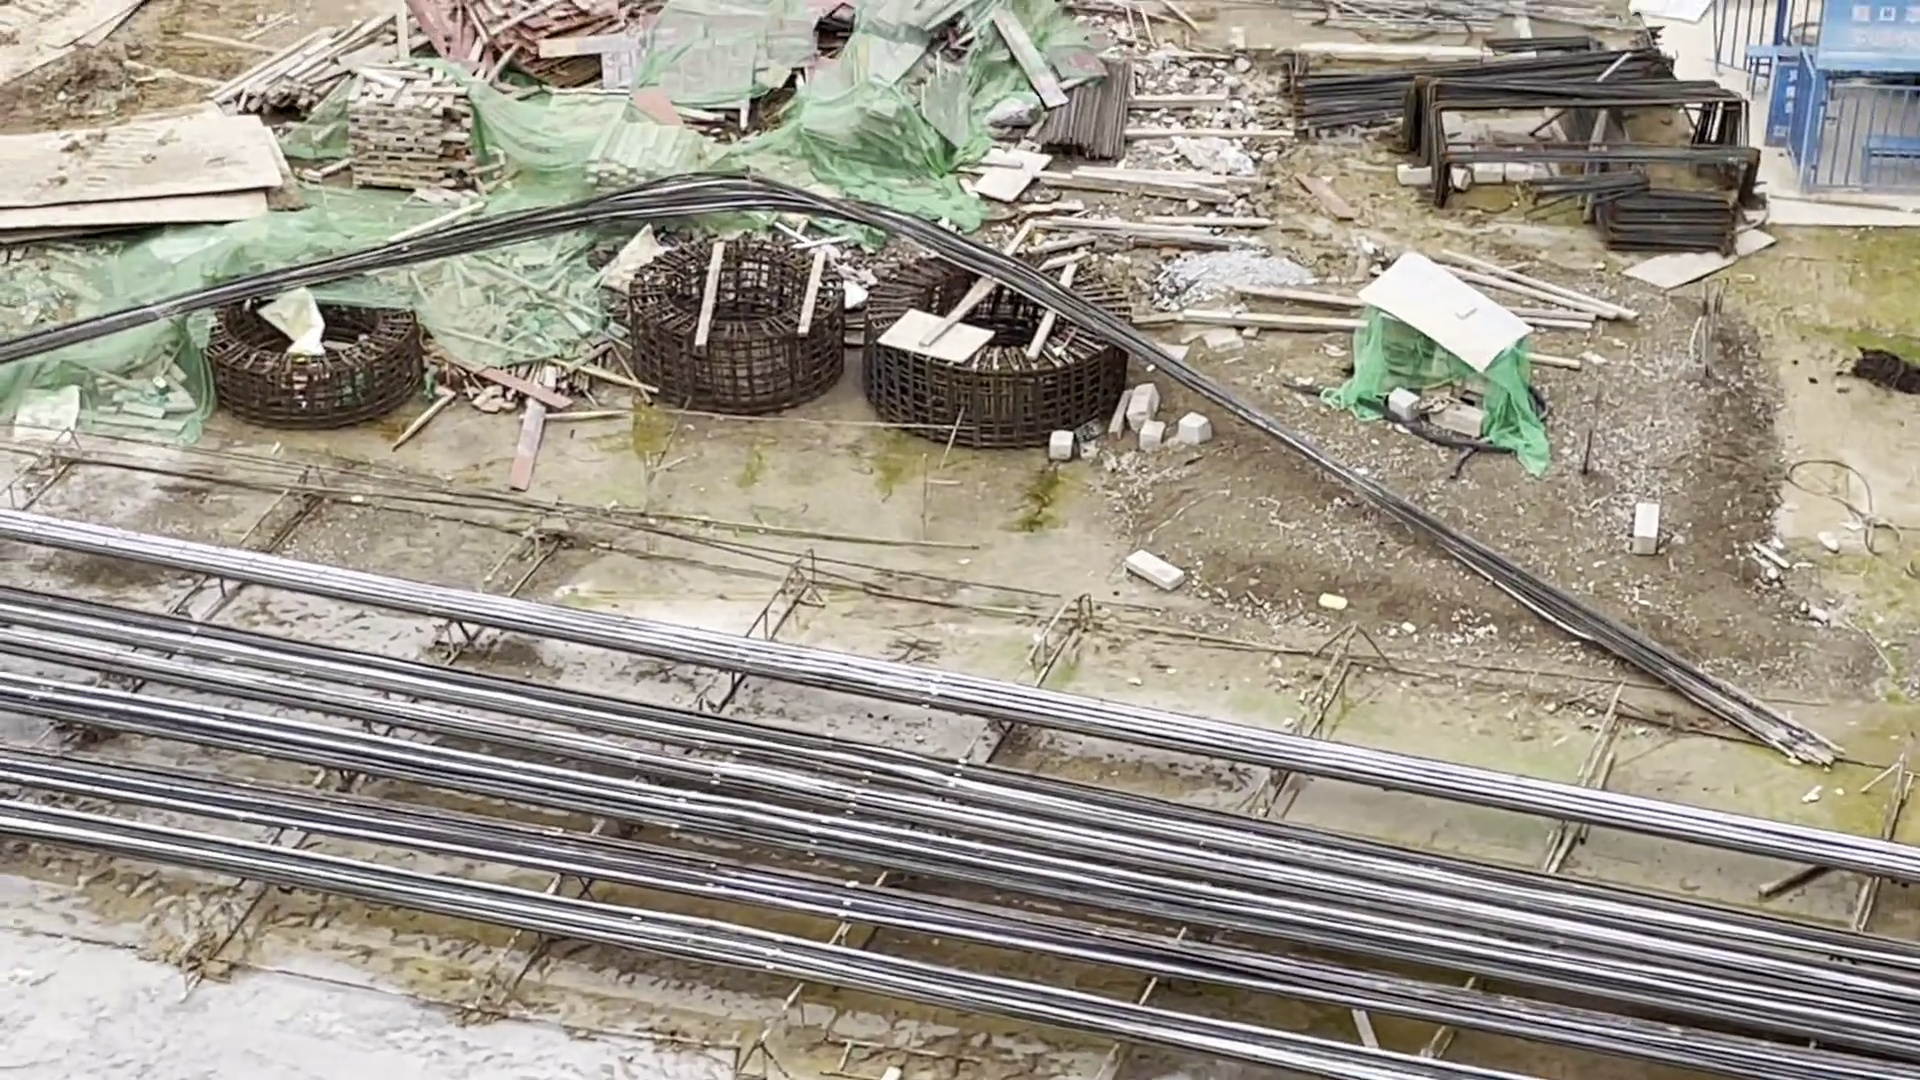rebar: (348, 667, 1920, 1071), (3, 512, 500, 894)
